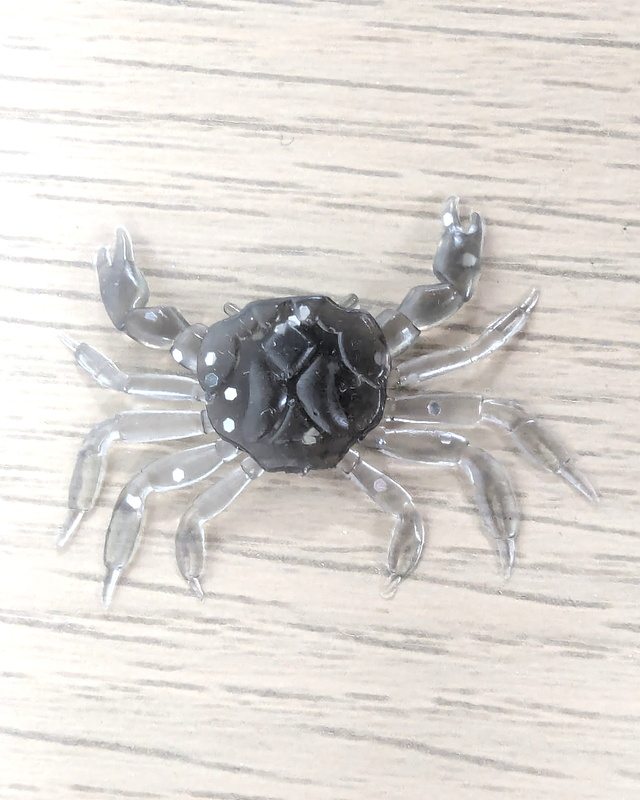crab1: (51, 195, 604, 610)
